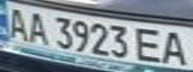2: (87, 20, 112, 56)
3: (48, 13, 75, 51), (109, 22, 133, 60)
9: (69, 18, 93, 53)
A: (157, 28, 193, 66), (21, 9, 51, 45), (3, 4, 30, 42)
E: (133, 25, 169, 63)
